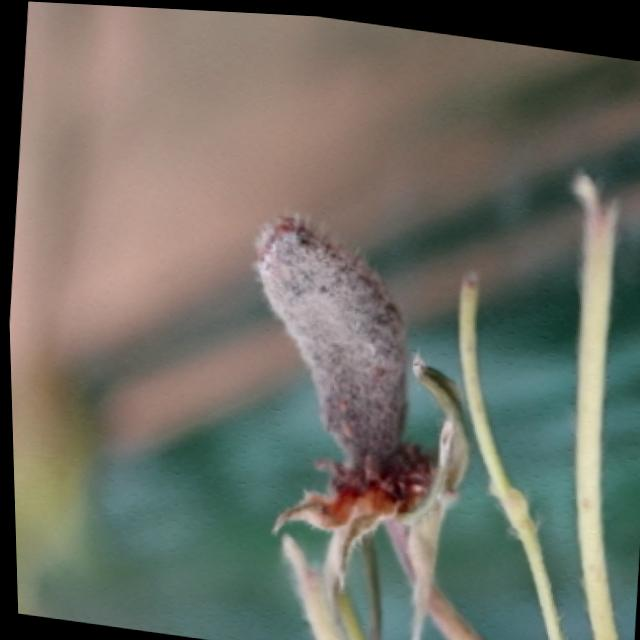Gray Mold: (252, 209, 432, 577)
